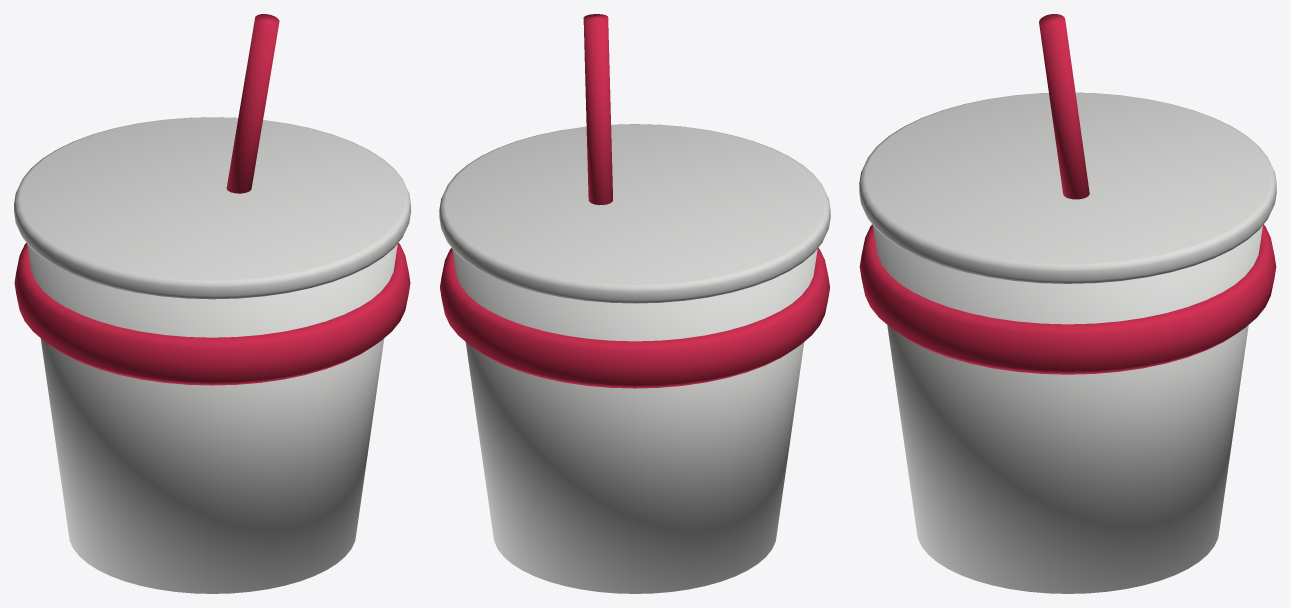
Rendered from shake.glb.
3 renders of one model, left to right at view 1: azimuth 30°, elevation 25°; view 2: azimuth 150°, elevation 25°; view 3: azimuth 270°, elevation 25°, orthographic. The views are drawn at different scales.
Parts seen in each view (by area): view 1: shake; view 2: shake; view 3: shake.
Part boxes in pixels (<box>): shake: <box>14,14,410,593</box>; shake: <box>439,14,830,593</box>; shake: <box>859,14,1276,593</box>.
Size of the model in its own units: 0.6615 by 0.9357 by 0.6615.
